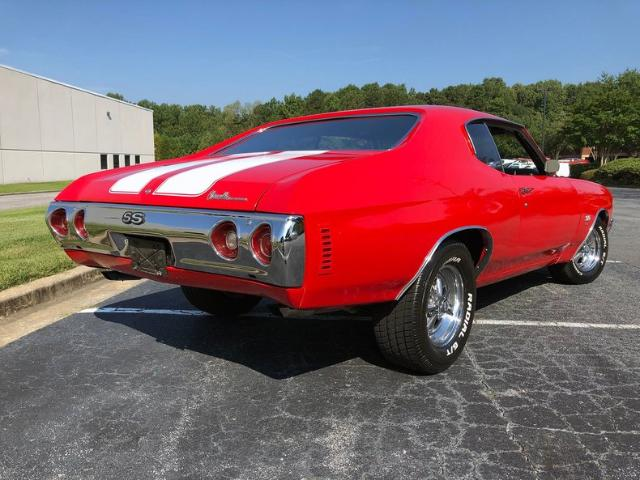chevelle-1972: (45, 105, 612, 373)
